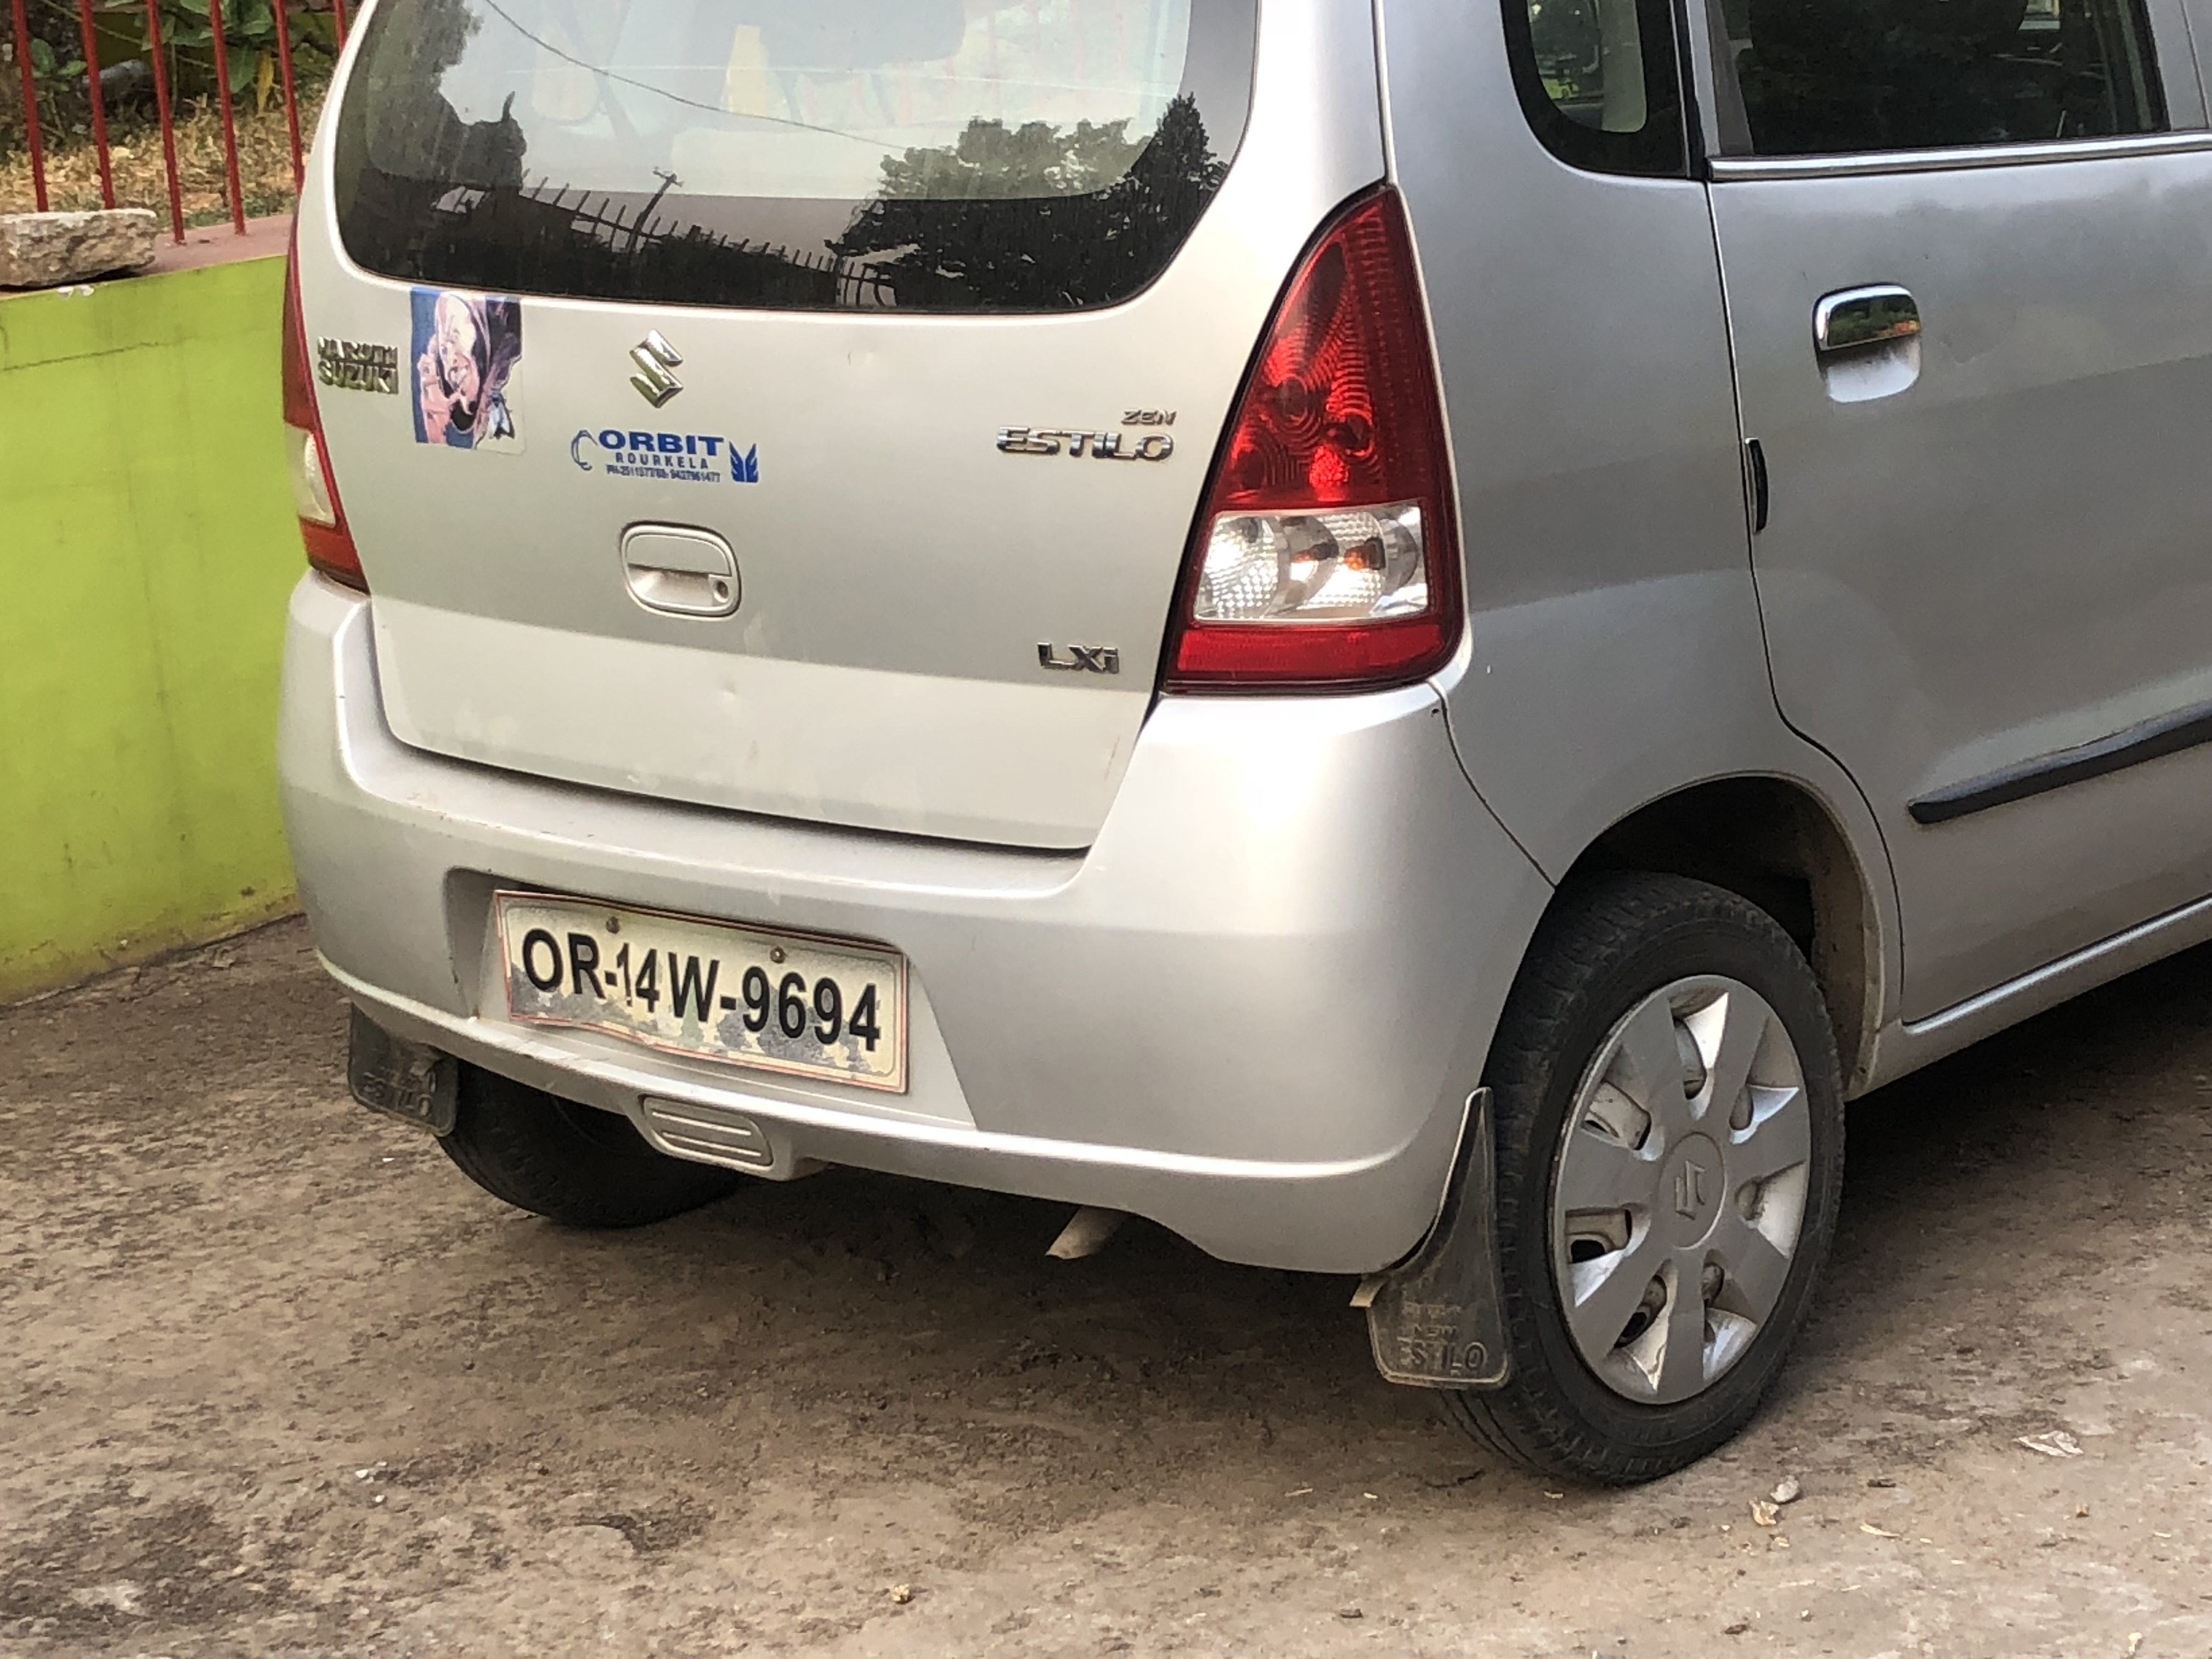licenseplate: (467, 872, 923, 1114)
